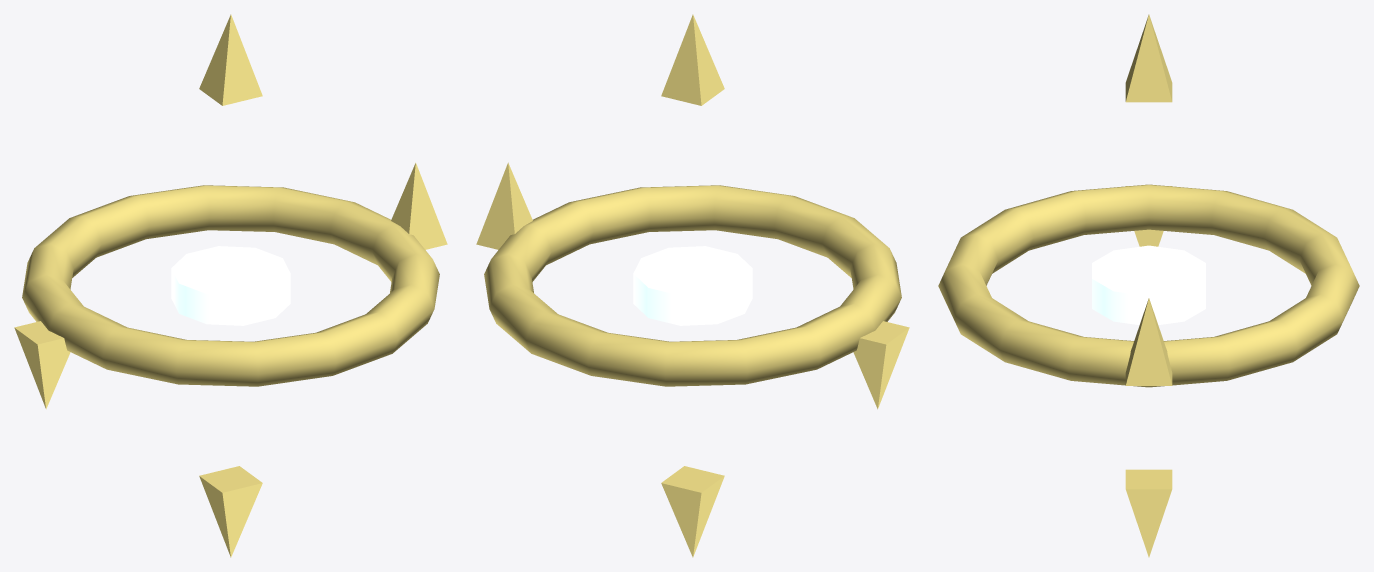
The model's file is grapple_anchor_ring.glb.
3 views of the same model, side by side, from view 1: azimuth 30°, elevation 25°; view 2: azimuth 150°, elevation 25°; view 3: azimuth 270°, elevation 25° (orthographic).
Parts seen in each view (by area): view 1: RootNode; view 2: RootNode; view 3: RootNode.
Part boxes in pixels (box(x1,y1,x2,y2)): RootNode: box(14, 14, 447, 557); RootNode: box(476, 14, 909, 557); RootNode: box(938, 14, 1359, 557).
Size of the model in its own units: 3.55 by 4.5 by 3.16.
